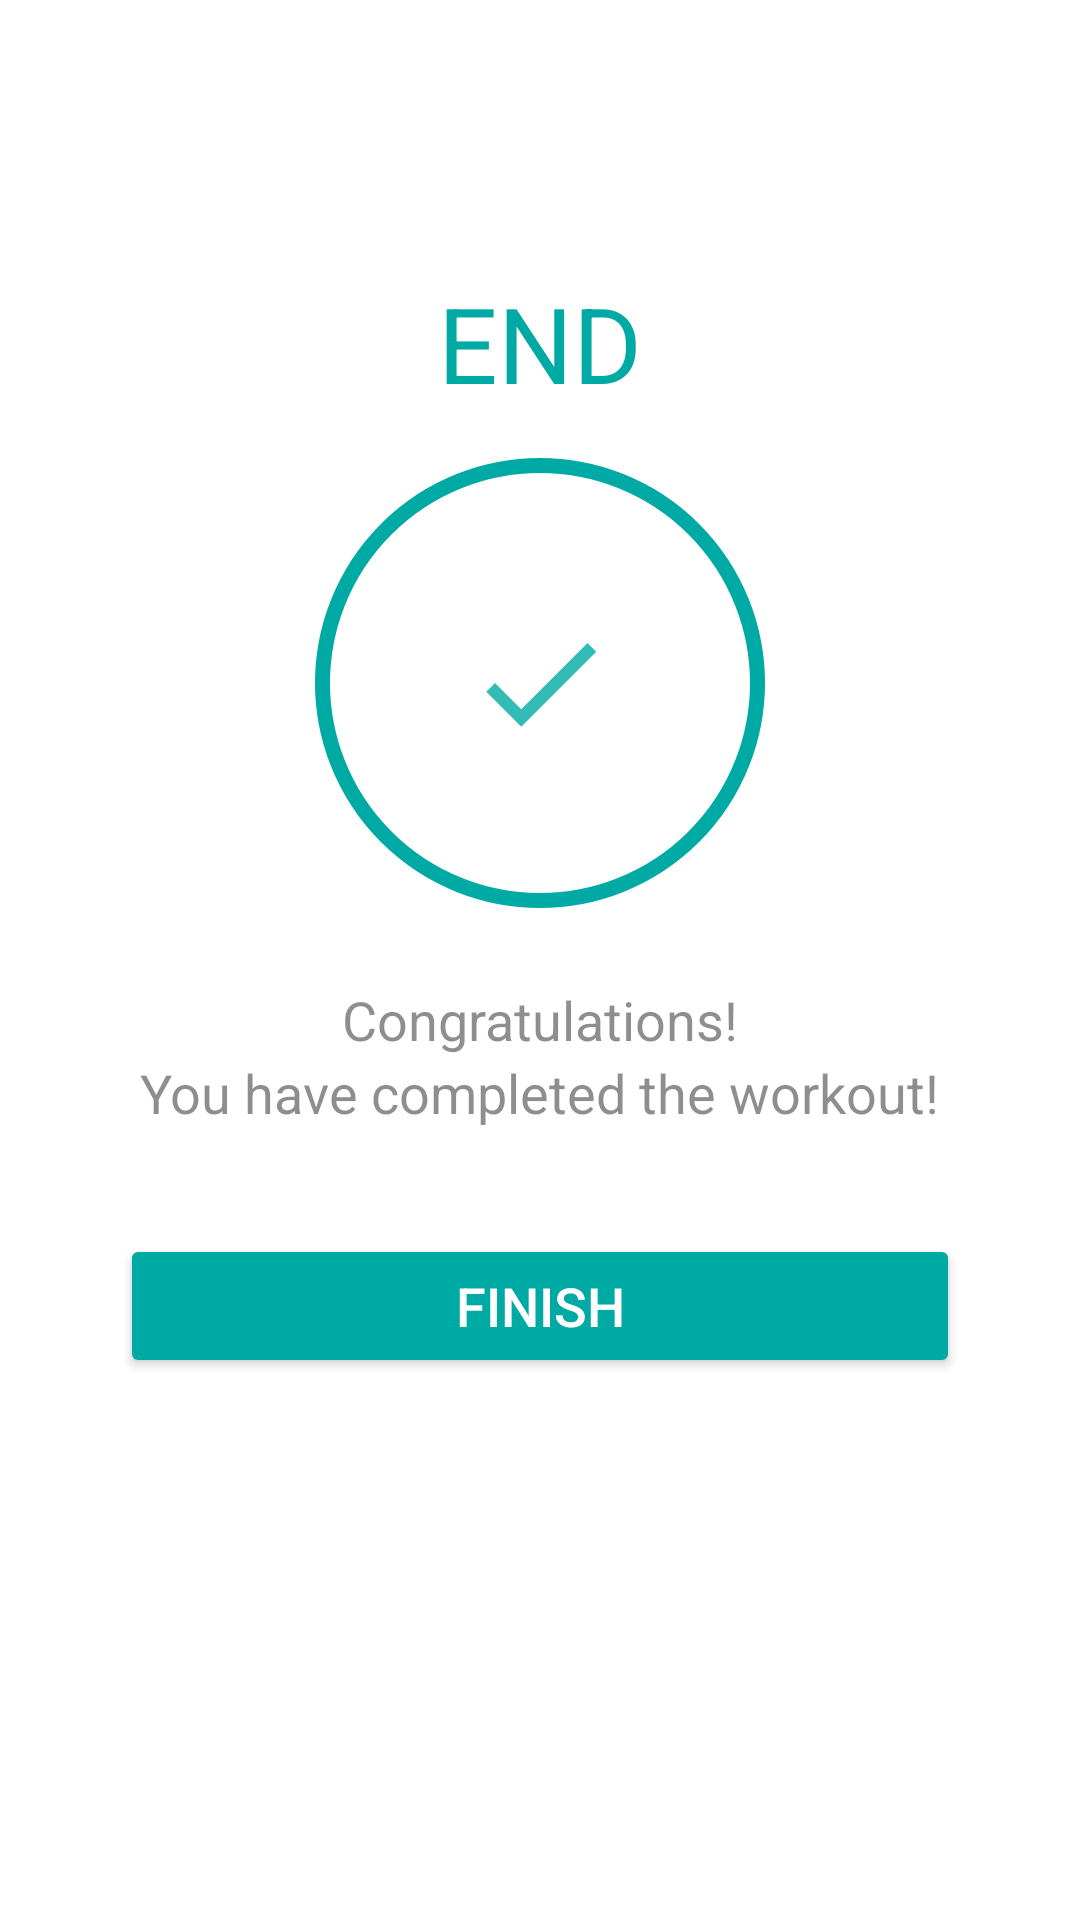

Screen size 1080w x 1920h. Icon name, then its center in pixels as (x=x, y=y):
Done image: (x=541, y=685)
